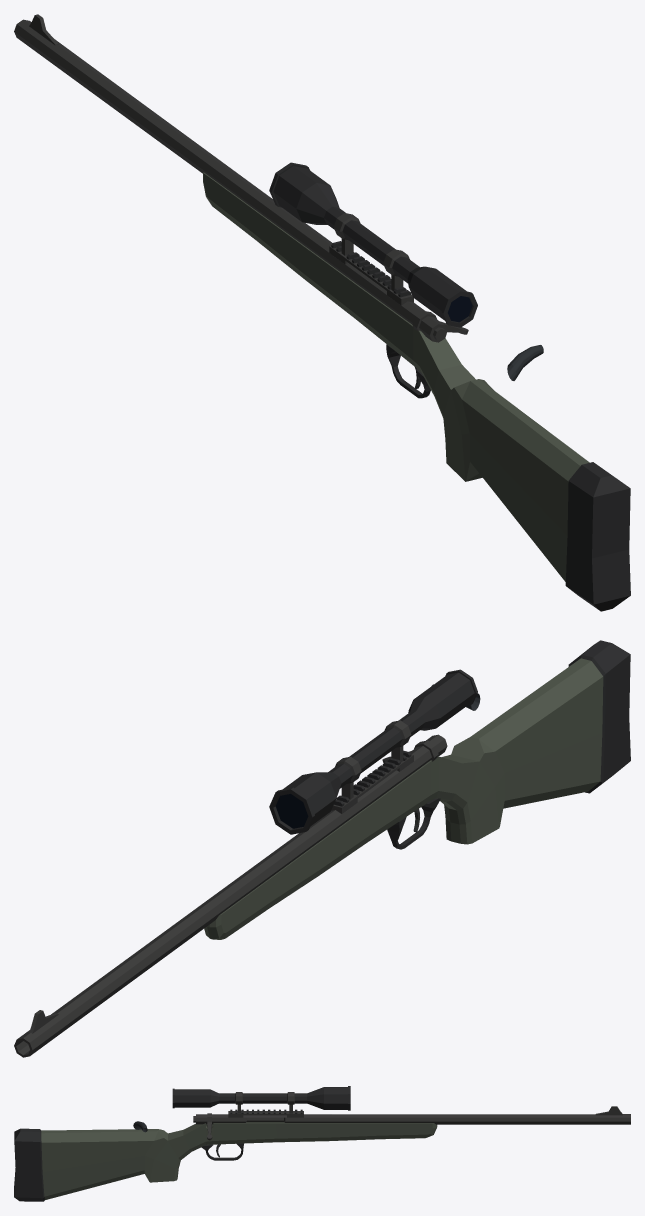
Rendered from kar.glb.
The picture shows the model from 3 angles, top to bottom: view 1: azimuth 30°, elevation 25°; view 2: azimuth 150°, elevation 25°; view 3: azimuth 270°, elevation 25°; orthographic projection. The views are drawn at different scales.
Visible parts, largest first — view 1: WeaponBodyGeometry; view 2: WeaponBodyGeometry; view 3: WeaponBodyGeometry.
Boxes of the visible parts, x1,y1,x2,y2 form: WeaponBodyGeometry: (14,14,630,611); WeaponBodyGeometry: (14,640,630,1057); WeaponBodyGeometry: (14,1086,630,1201).
Size of the model in its own units: 0.1298 by 0.354 by 1.74.
